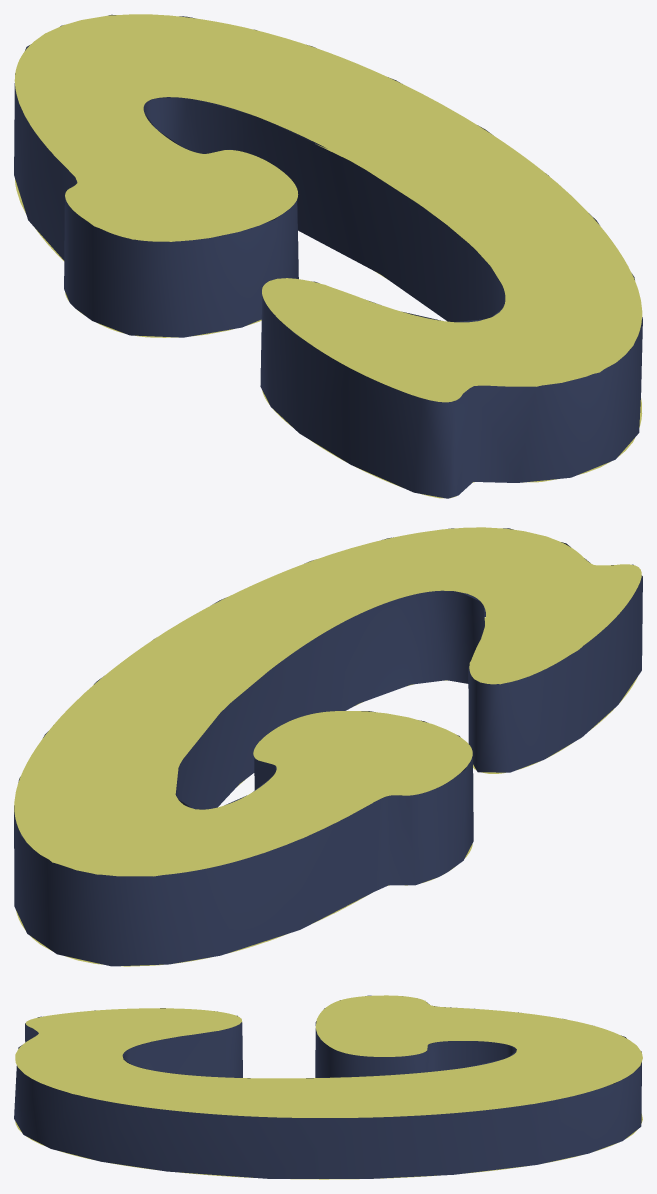
Rendered from g_boss.fbx.
3 renders of one model, top to bottom at view 1: azimuth 30°, elevation 25°; view 2: azimuth 150°, elevation 25°; view 3: azimuth 270°, elevation 25°, orthographic. The views are drawn at different scales.
Visible parts, largest first — view 1: G; view 2: G; view 3: G.
Part boxes in pixels (x1=…): G: x1=14, y1=14, x2=642, y2=498; G: x1=14, y1=527, x2=642, y2=966; G: x1=14, y1=995, x2=642, y2=1179.
Size of the model in its own units: 0.6856 by 0.1599 by 1.49.
